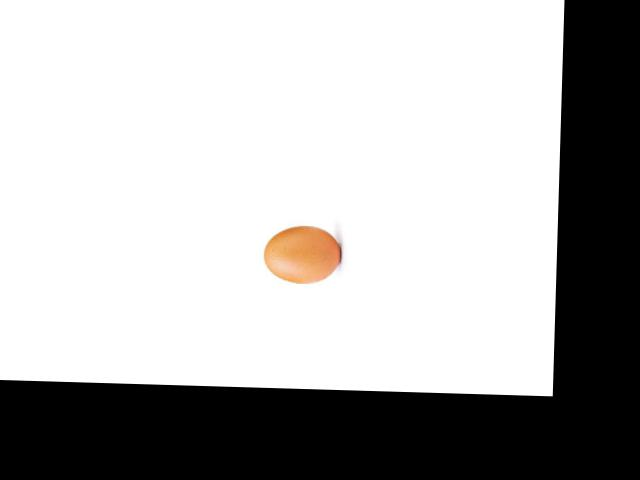egg: (263, 224, 340, 284)
